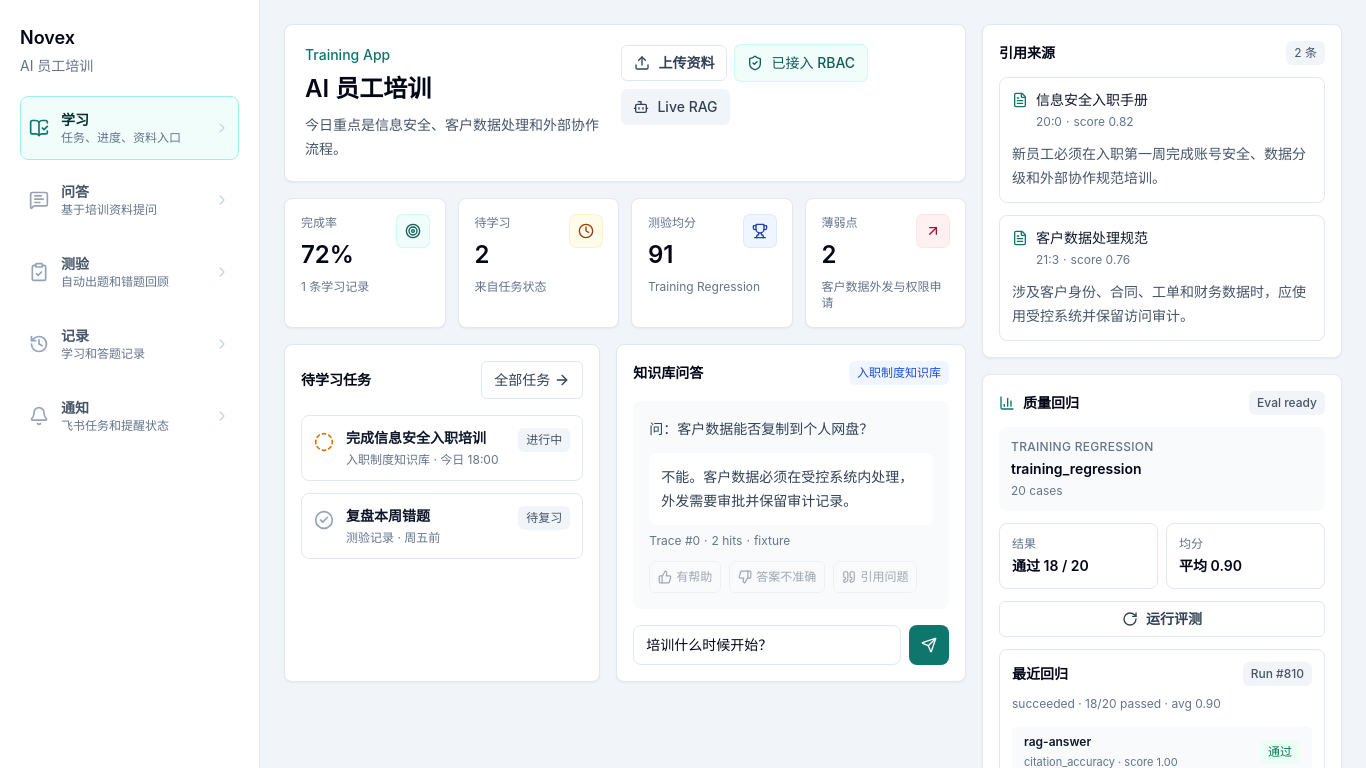
Test: Training home page › runs the training regression eval set from the customer workbench
The width and height of the screenshot is (1366, 768).
expect the text "training_regression" is shown: met, box [1011,460,1142,477]
Click the button "运行评测" at (1162, 619), box [999,601,1325,637]
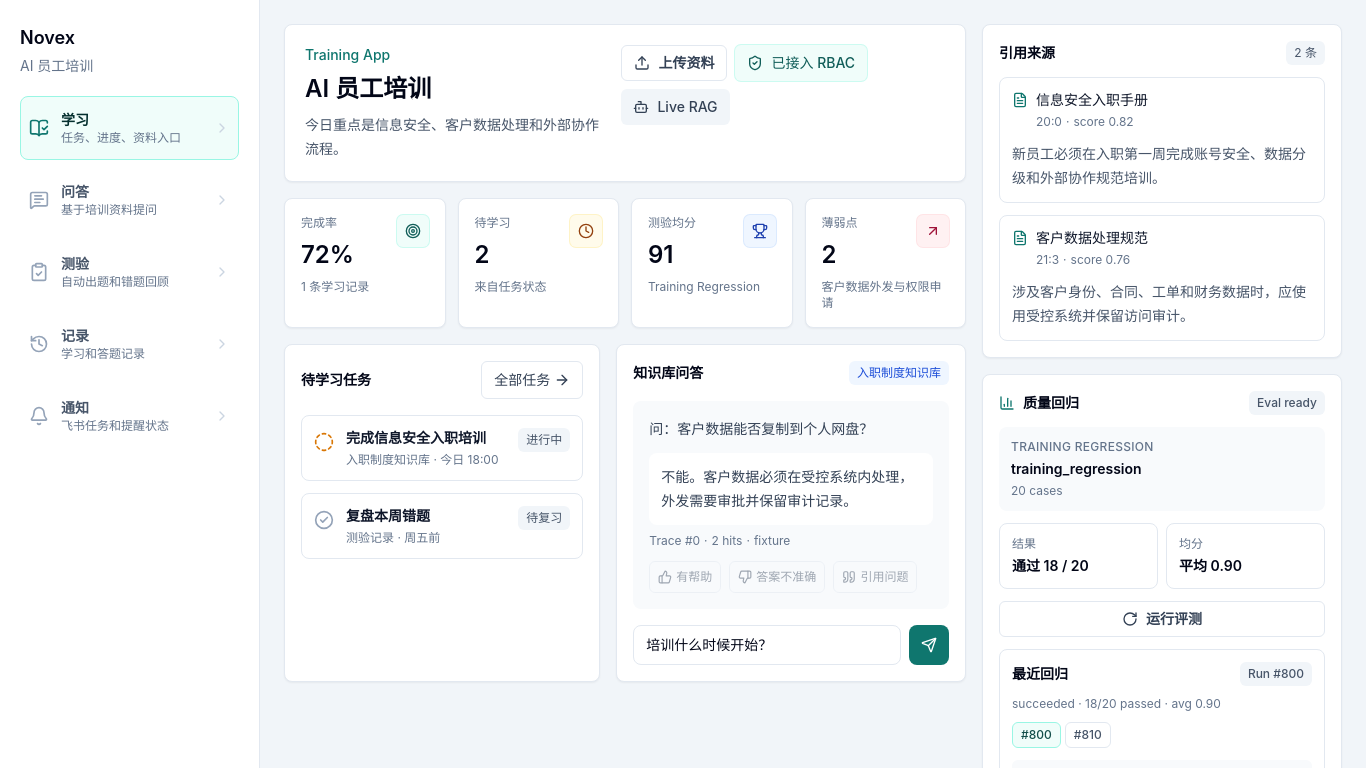
expect the text "通过 18 / 20" is shown: met, box [1012,557,1089,574]
expect the text "Run #800" is shown: met, box [1240,662,1312,686]
